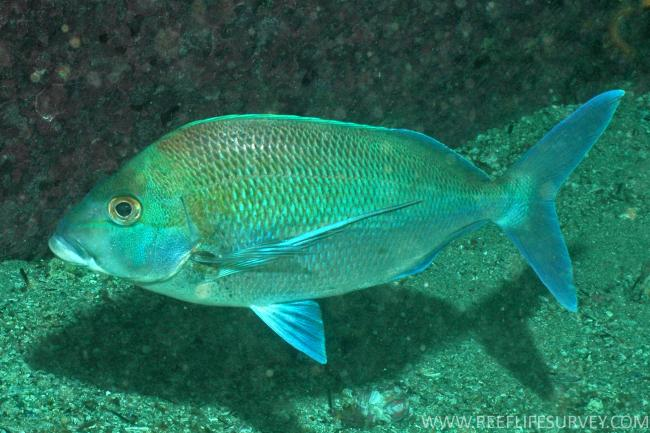fish: (48, 88, 625, 365)
